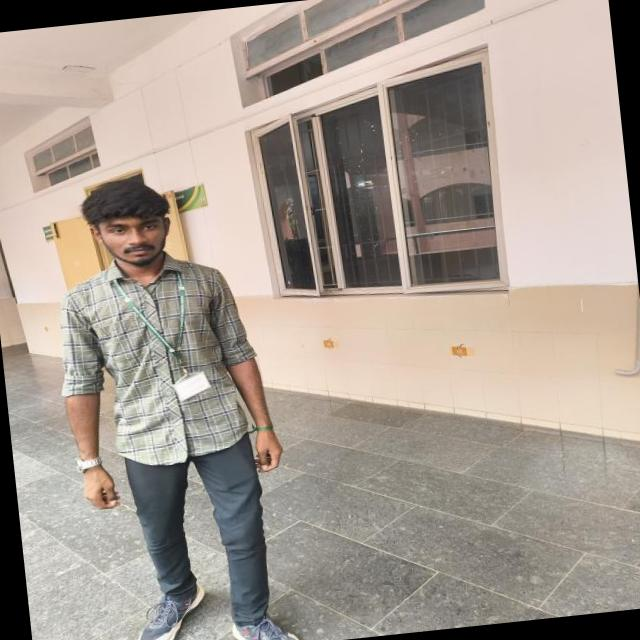id_card: (109, 267, 212, 405)
